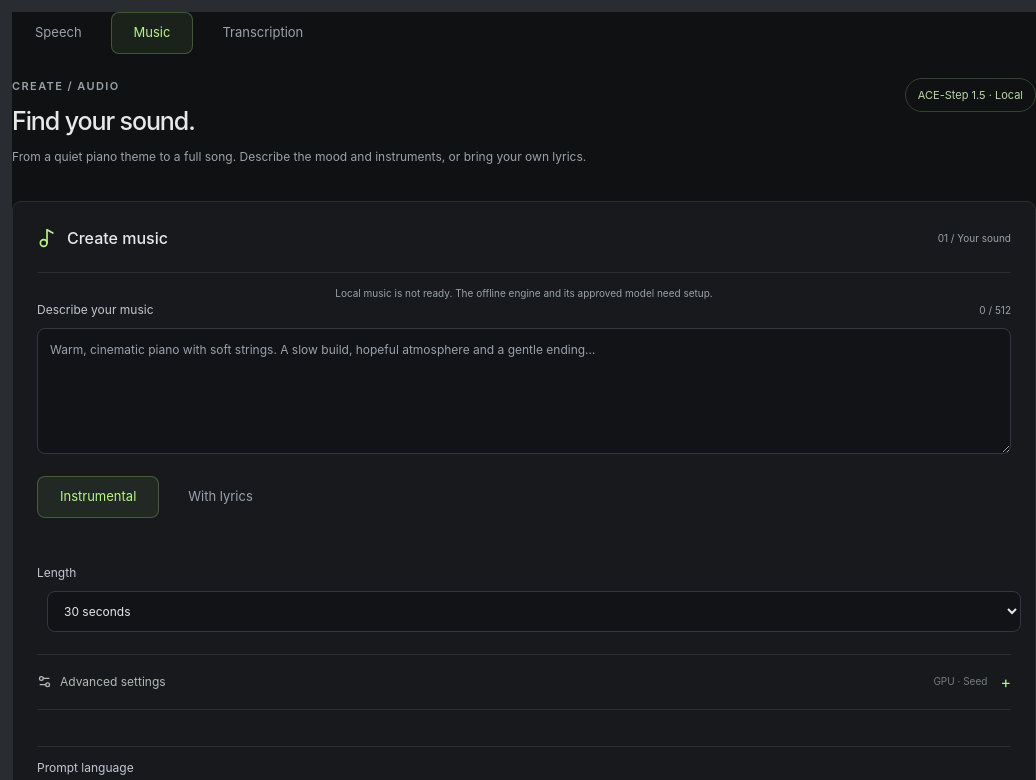
shows music readiness without pretending an unavailable engine can generate
Expected: the text "Local music is not ready" is shown, [335,287,713,299]
What coordinates should you click on to do the following:
click the button with aria-label "Create speech"
I would click on:
 (58, 33)
Its box is [12,12,105,54].
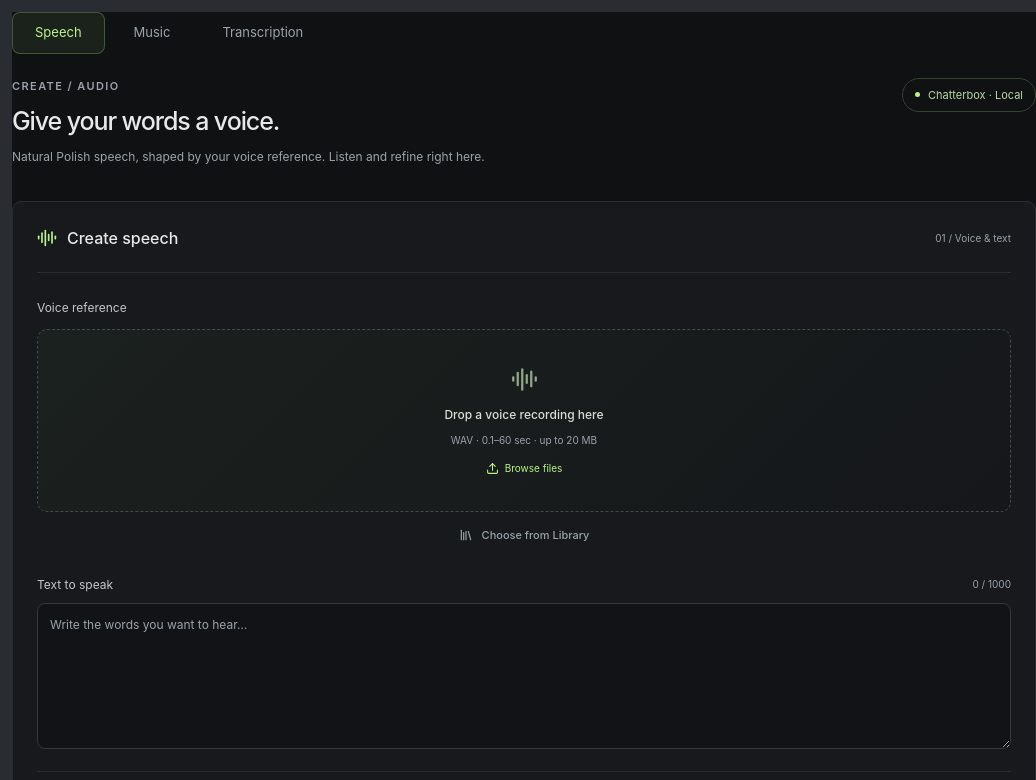
Expected: the heading "Give your words a voice." is shown, [12,106,279,136]
